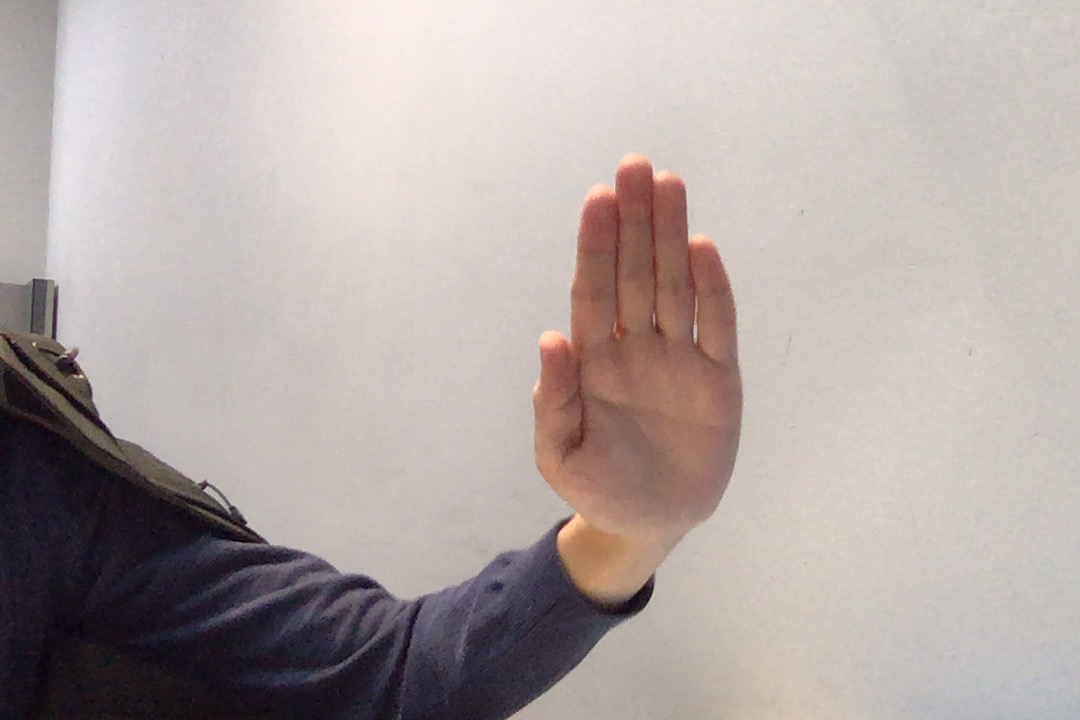palmhand: (507, 139, 773, 554)
